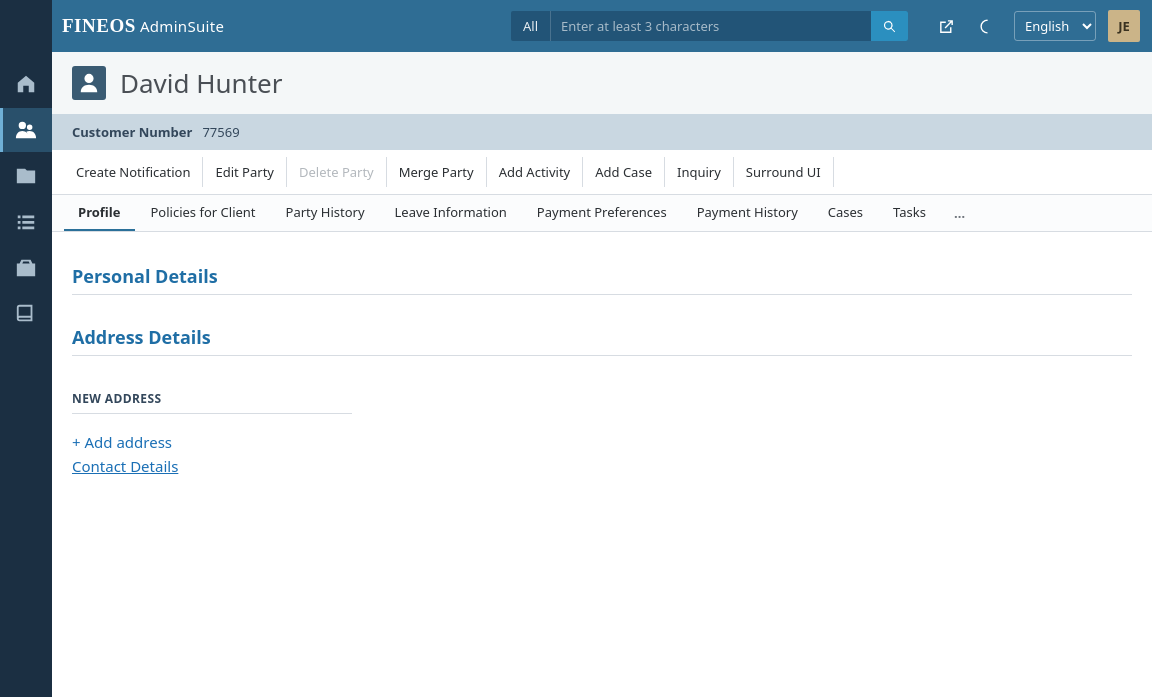
Scenario: Primary navigation › navigates Home to the dashboard
This screenshot has width=1152, height=697.
Click the button named "home".
click(26, 84)  # box [0, 62, 52, 106]
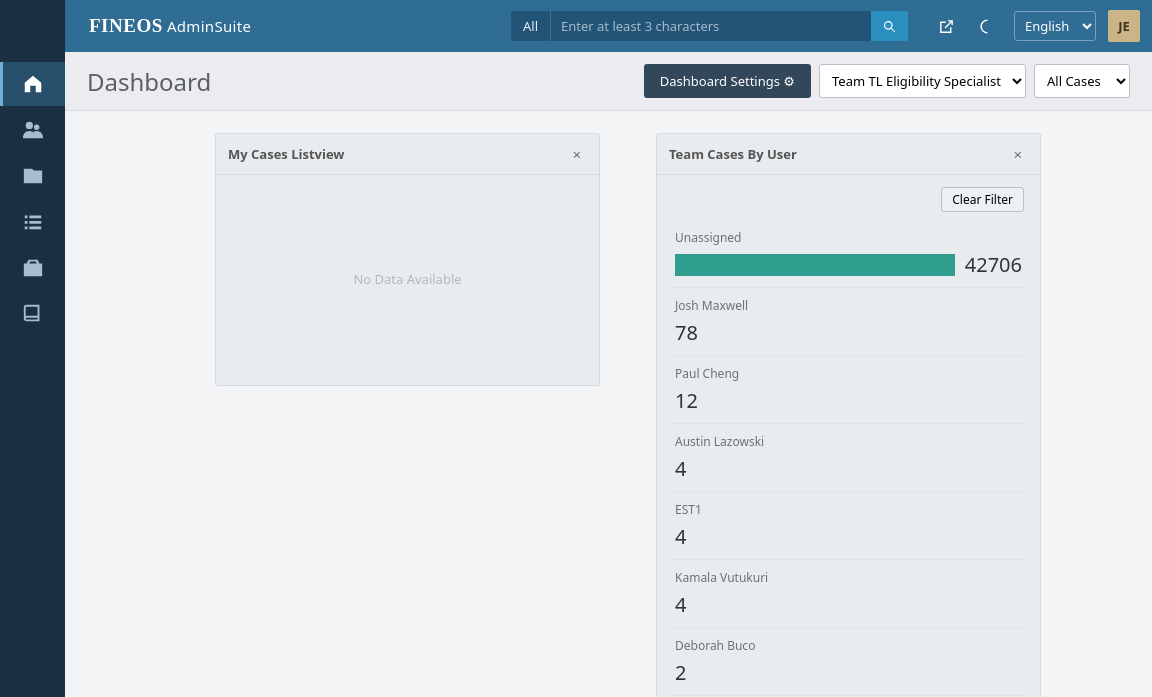
Now the heading "Dashboard" is shown, box [87, 64, 211, 98]
